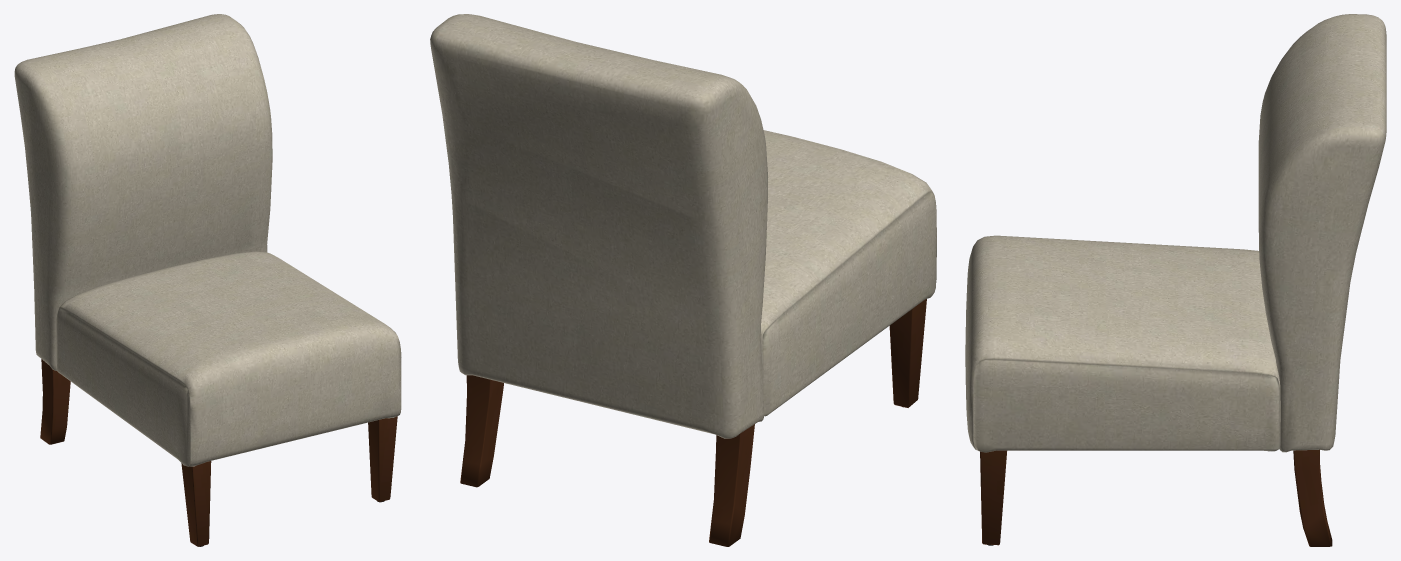
Rendered from abo-B071PDYKYB.glb.
3 renders of one model, left to right at view 1: azimuth 30°, elevation 25°; view 2: azimuth 150°, elevation 25°; view 3: azimuth 270°, elevation 25°, orthographic. The views are drawn at different scales.
Parts seen in each view (by area): view 1: RootNode; view 2: RootNode; view 3: RootNode.
Boxes of the visible parts, x1=… form: RootNode: x1=14, y1=14, x2=401, y2=546; RootNode: x1=430, y1=14, x2=936, y2=546; RootNode: x1=965, y1=14, x2=1386, y2=546.
Size of the model in its own units: 0.5206 by 0.8327 by 0.7537.
Materials: 1 (1 with a texture image).
